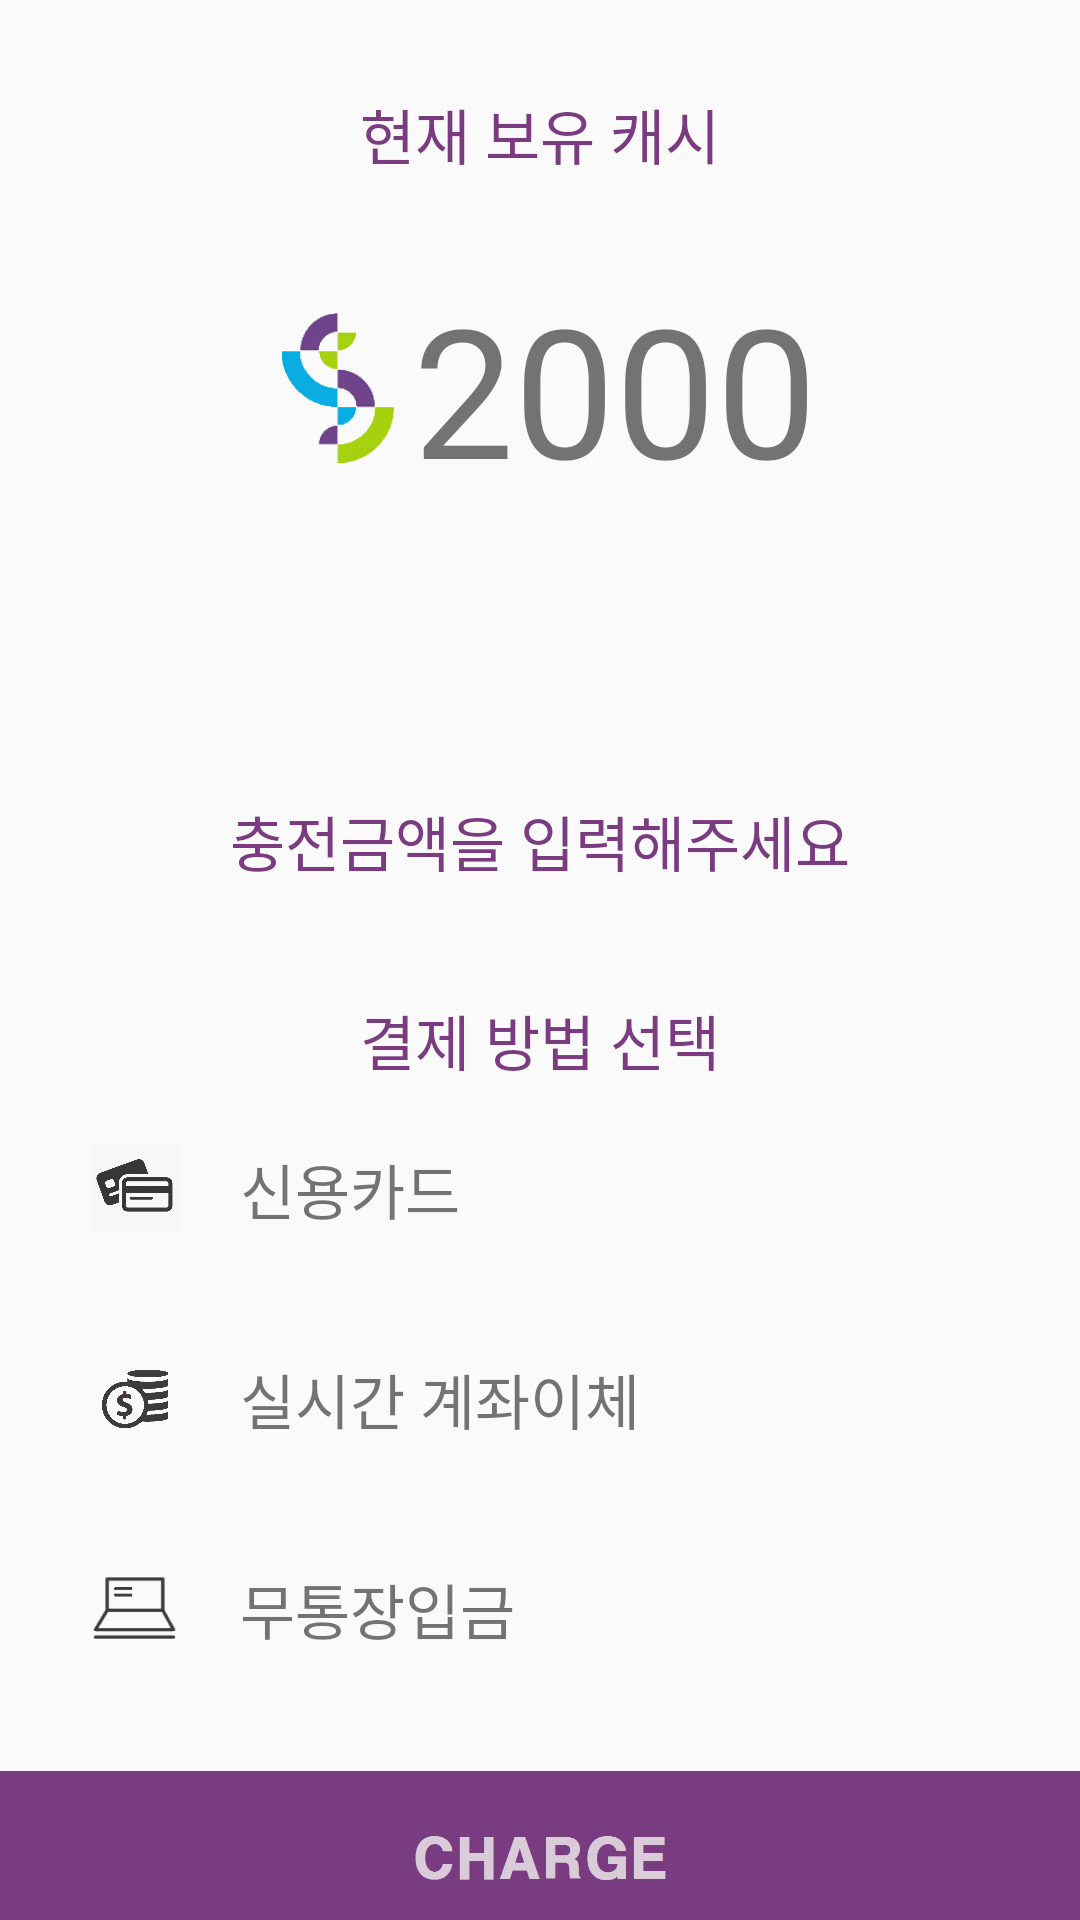

Screen size 1080×1920. Icon name, then its box in pixels as (x1, y1, x2, y2):
cashing: (102, 1370, 168, 1428)
credit: (96, 1159, 173, 1212)
